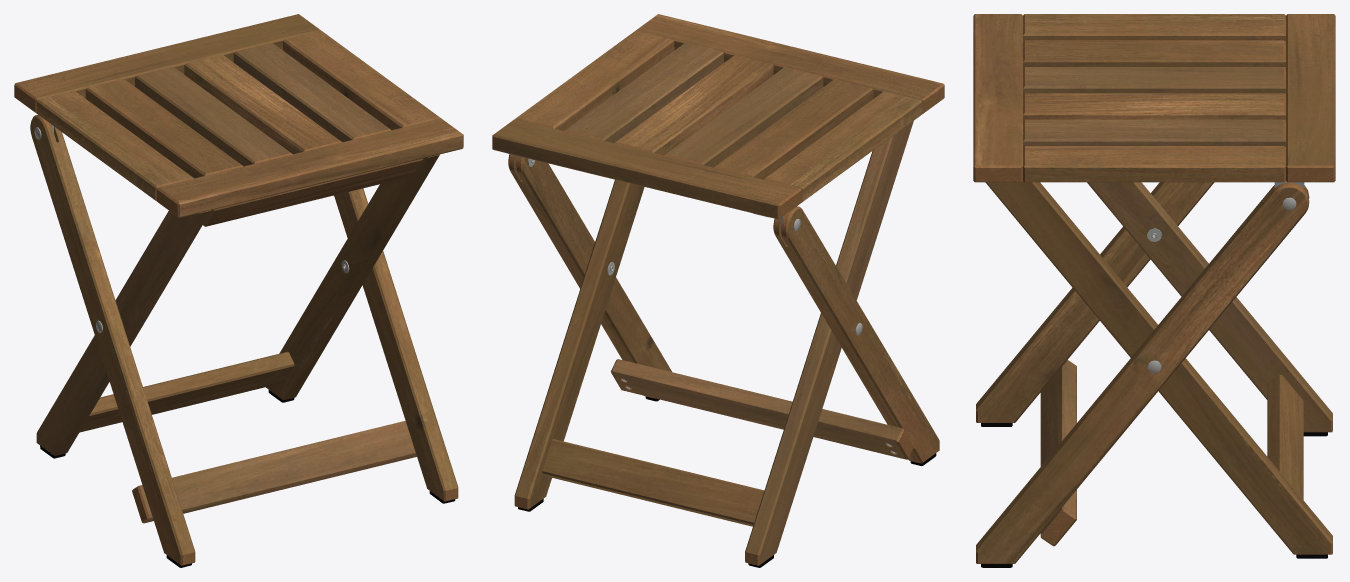
The model's file is nammaro_stoek_ogrodowy_70510300.glb.
3 views of the same model, side by side, from view 1: azimuth 30°, elevation 25°; view 2: azimuth 150°, elevation 25°; view 3: azimuth 270°, elevation 25° (orthographic). The views are drawn at different scales.
Parts seen in each view (by area): view 1: nammaro_stoek_ogrodowy_70510300; view 2: nammaro_stoek_ogrodowy_70510300; view 3: nammaro_stoek_ogrodowy_70510300.
Boxes of the visible parts, box(x1,y1,x2,y2) form: nammaro_stoek_ogrodowy_70510300: box(14, 14, 463, 567); nammaro_stoek_ogrodowy_70510300: box(492, 14, 944, 567); nammaro_stoek_ogrodowy_70510300: box(973, 14, 1335, 567).
Bounding box in the file's own units: 0.365 × 0.45 × 0.365.
Materials: 1 (1 with a texture image).
